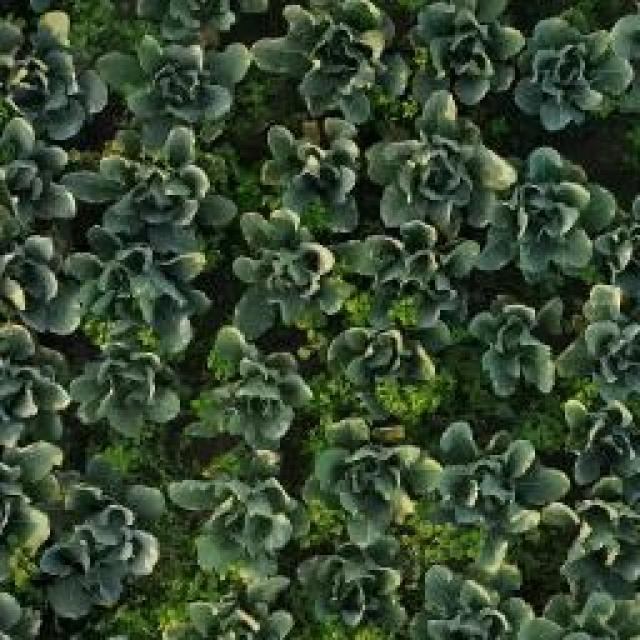cabbage: (267, 3, 402, 102), (115, 20, 225, 138), (488, 160, 597, 264), (405, 4, 519, 103), (515, 18, 627, 116), (38, 501, 151, 597), (260, 121, 366, 223), (240, 221, 346, 323), (458, 295, 562, 397), (190, 464, 296, 564), (102, 140, 212, 234), (364, 226, 476, 317), (93, 247, 201, 341), (204, 341, 308, 438), (0, 14, 92, 123), (450, 434, 548, 530), (396, 127, 495, 221), (80, 348, 188, 432), (326, 434, 429, 520), (310, 558, 404, 636), (0, 138, 80, 228), (0, 236, 71, 336), (344, 318, 438, 392), (426, 572, 526, 640), (565, 488, 640, 568), (0, 352, 54, 442)
